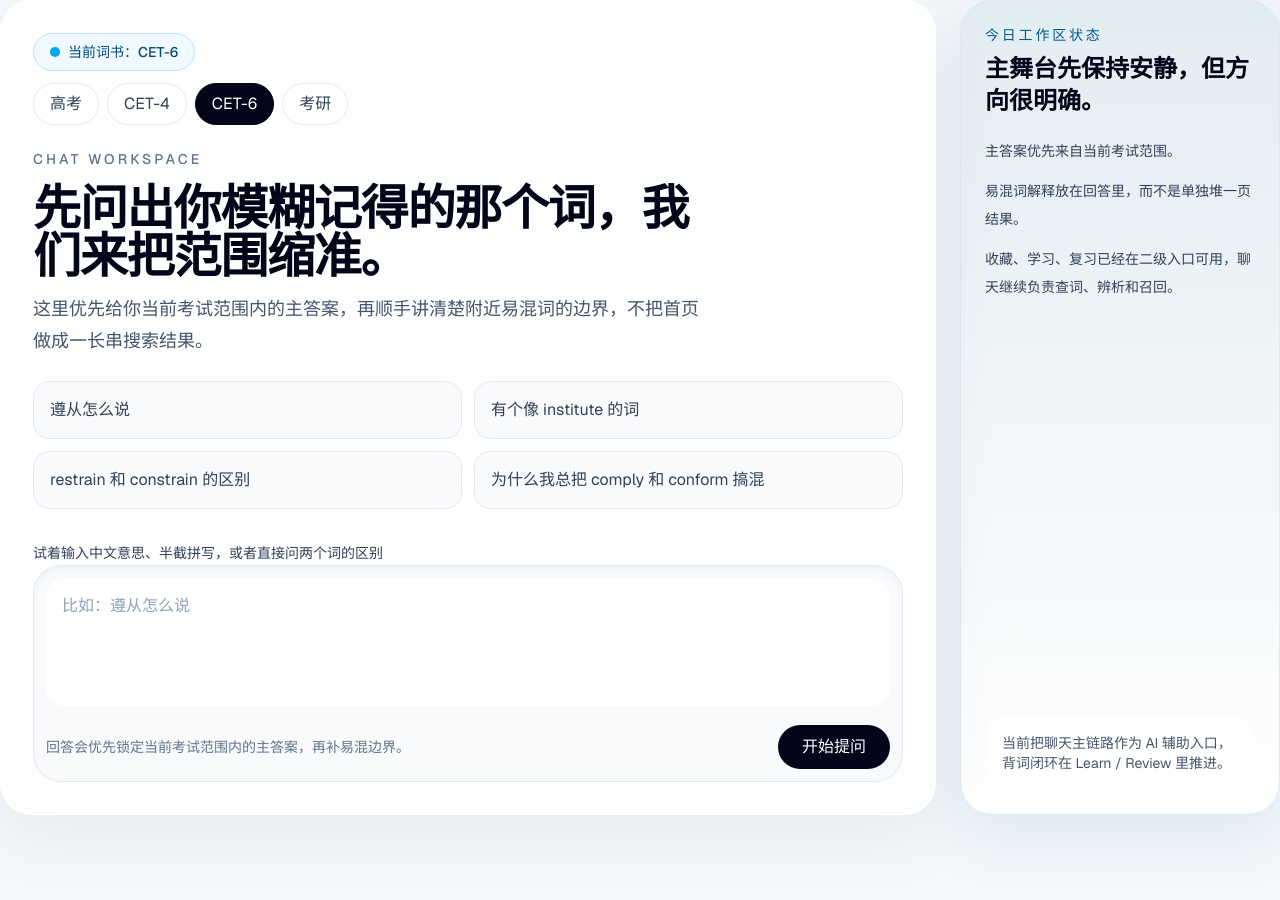
Test case: ChatWorkspace › renders clarification option buttons that fill the composer without submitting
The image size is (1280, 900).
Type "a 开头那个词是什么意思" into the text box with test id "chat-input" at point(468, 642), box 46,578 -> 890,706
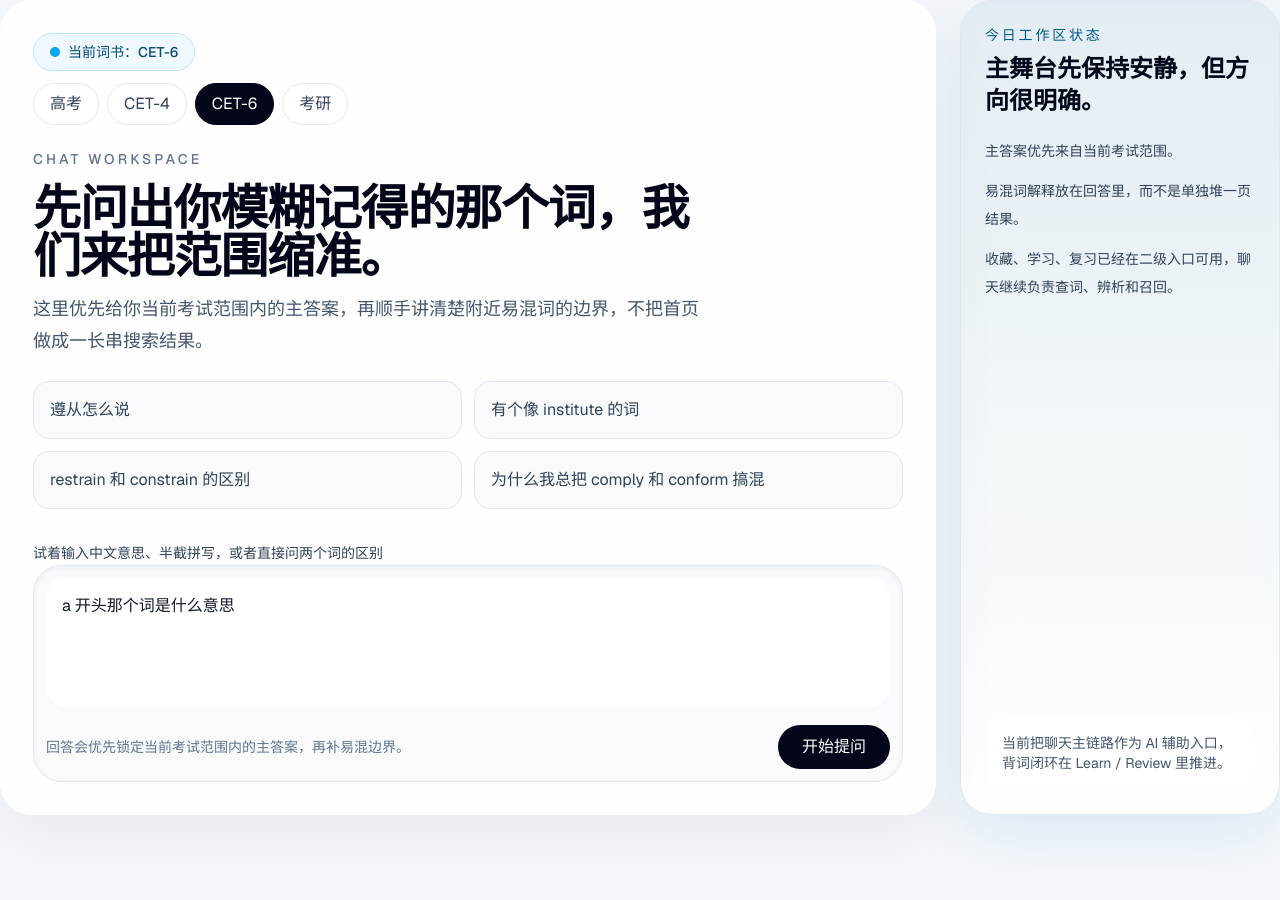
Click the button "开始提问" at point(834, 747), box 778,725 -> 890,769
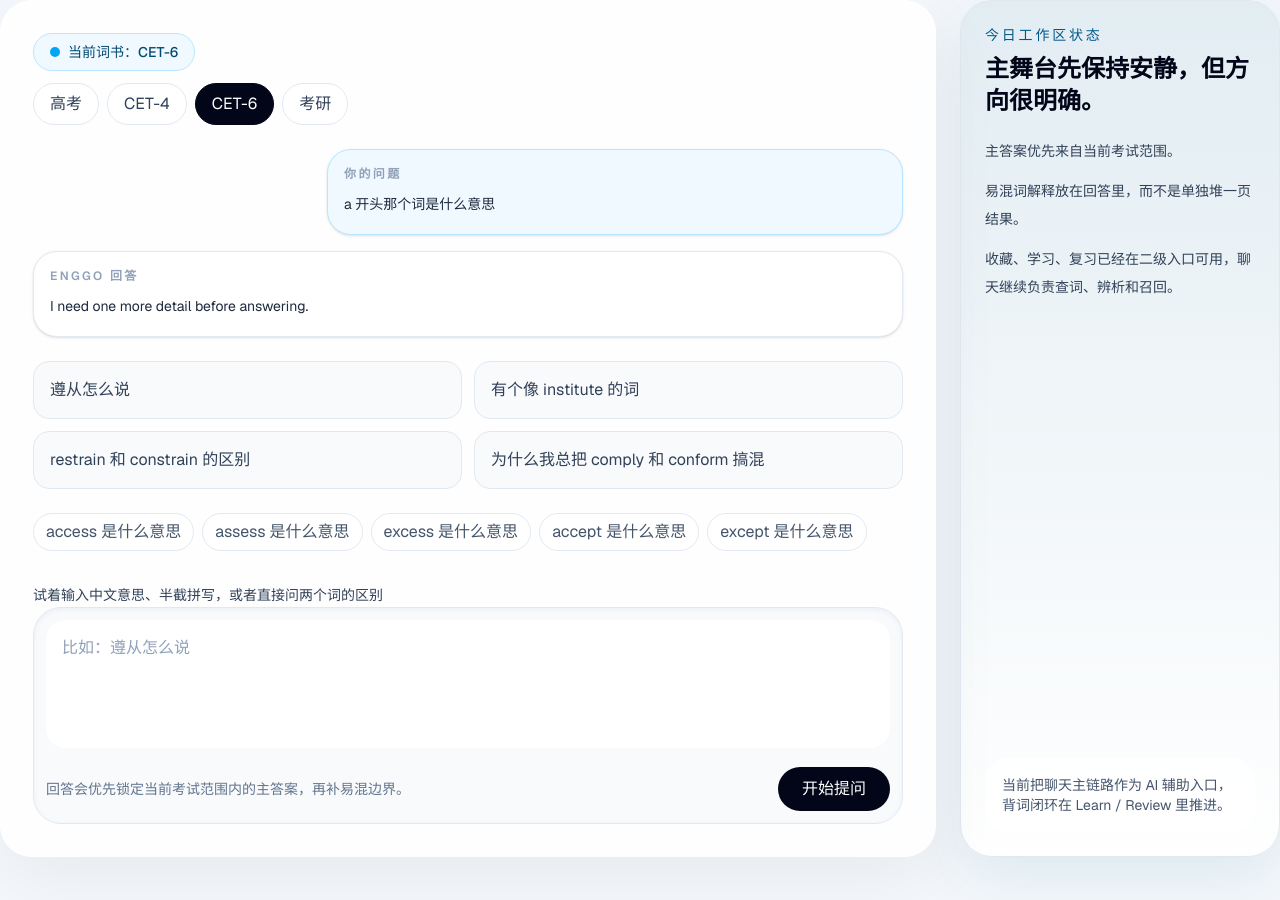
expect the text "I need one more detail before answering." is shown: met, box 50,297 -> 308,315
expect the button "access 是什么意思" is shown: met
expect the button "except 是什么意思" is shown: met, box 707,513 -> 867,551
Click the button "access 是什么意思" at point(114, 532), box 33,513 -> 194,551
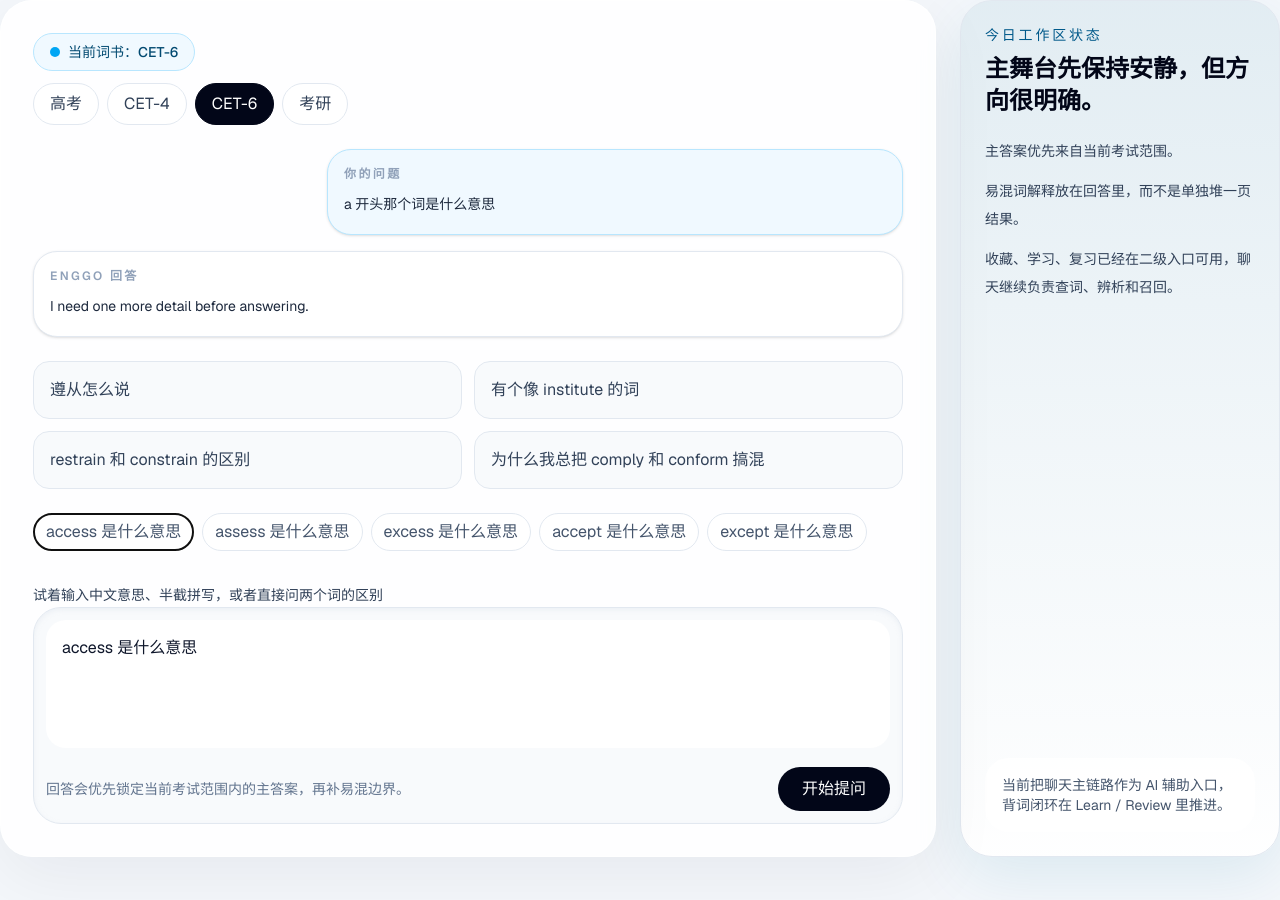
expect the text box showing "access 是什么意思" is shown: met, box 46,620 -> 890,748
